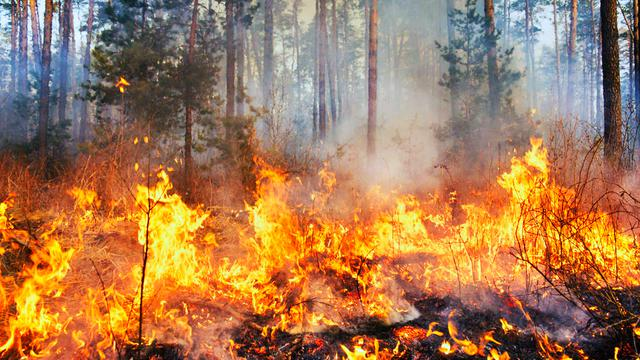fire: (3, 114, 635, 347)
